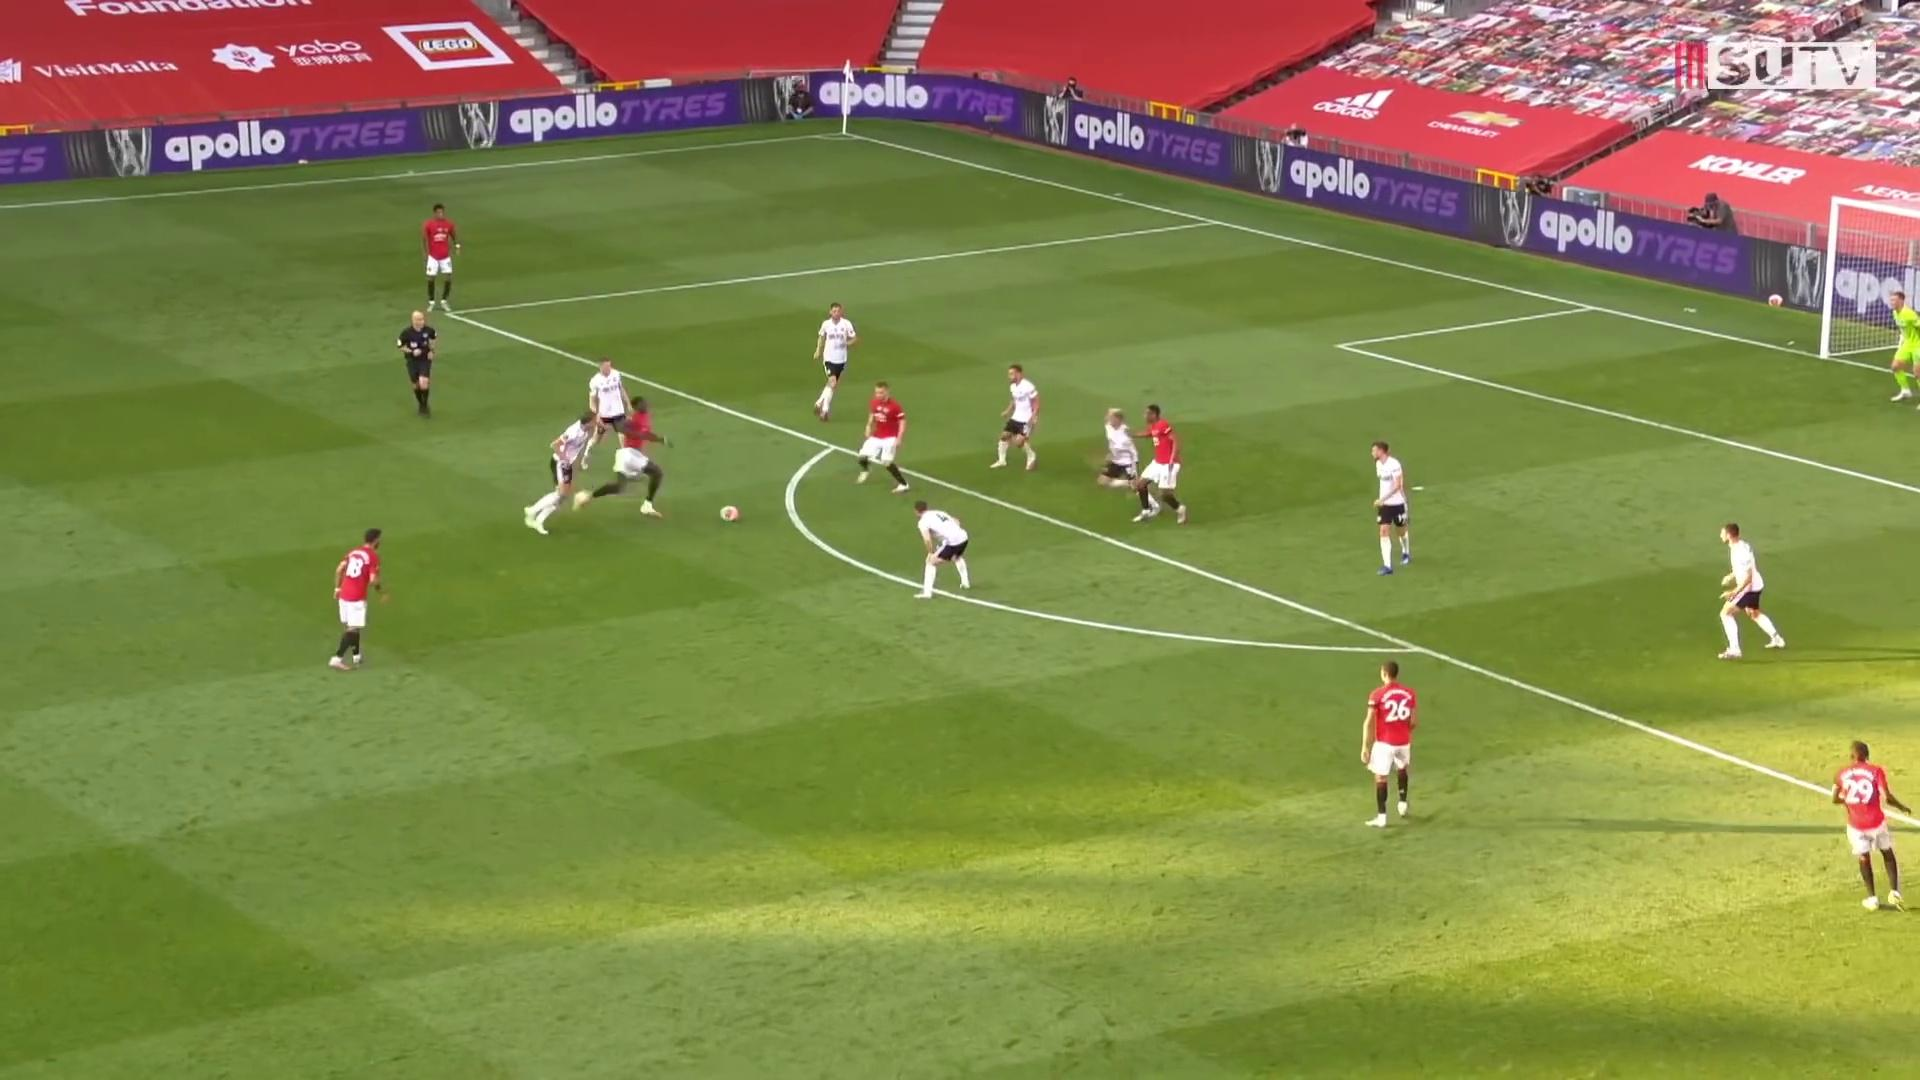ball: (716, 502, 742, 526), (1767, 290, 1784, 311)
goalkeeper: (1880, 290, 1920, 409)
player: (1823, 738, 1910, 915), (571, 389, 676, 524), (1354, 659, 1426, 837), (1715, 522, 1792, 663), (522, 403, 600, 538), (330, 525, 395, 678), (1131, 401, 1196, 525), (1096, 405, 1163, 520), (852, 377, 915, 497), (1368, 438, 1420, 578), (910, 499, 976, 605), (991, 361, 1050, 476), (811, 301, 861, 421), (583, 354, 636, 466), (421, 203, 468, 316)
referee: (396, 306, 439, 423)
